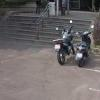Motorcycle: (49, 19, 99, 80)
